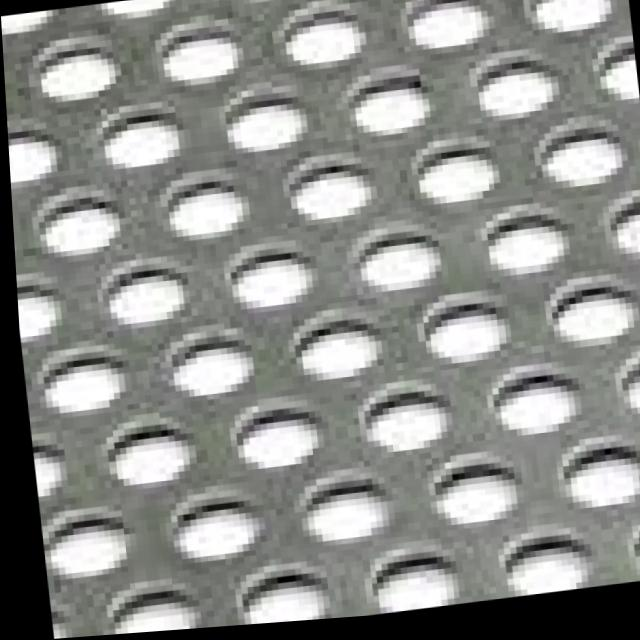metal-plates: (2, 1, 640, 640)
